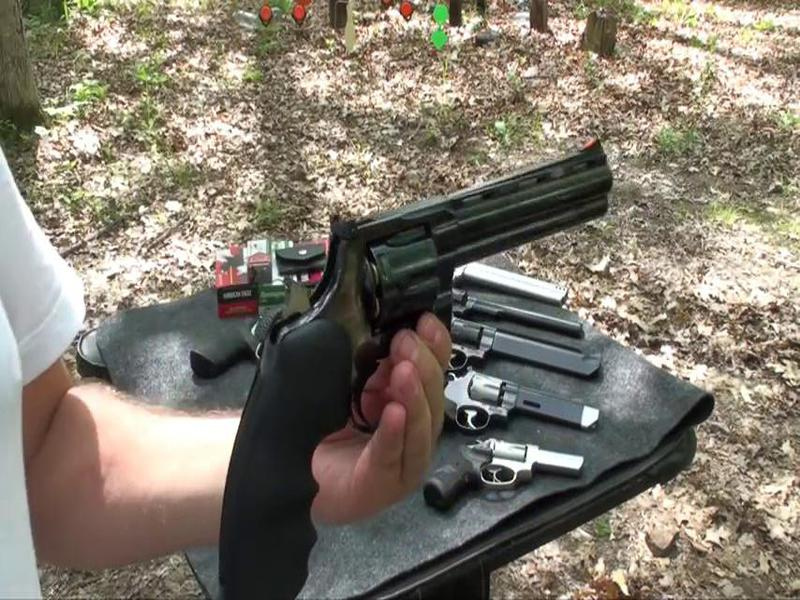Revolver: (219, 144, 617, 444)
